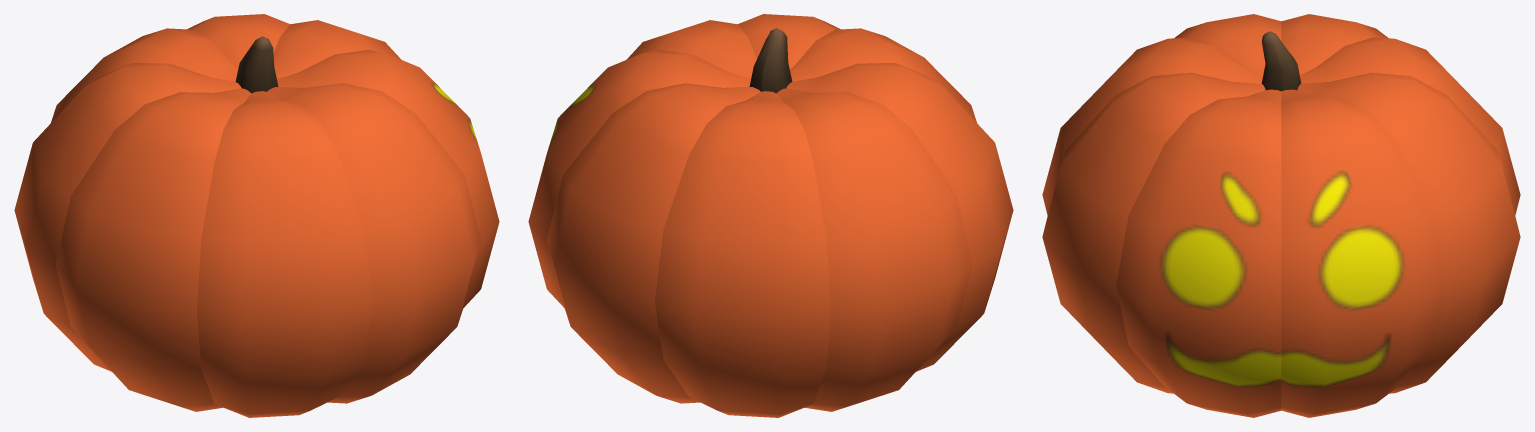
Rendered from MM_JackOLantern.fbx.
3 views of the same model, side by side, from view 1: azimuth 30°, elevation 25°; view 2: azimuth 150°, elevation 25°; view 3: azimuth 270°, elevation 25° (orthographic).
Parts seen in each view (by area): view 1: MM_JackOLantern; view 2: MM_JackOLantern; view 3: MM_JackOLantern.
Boxes of the visible parts, x1,y1,x2,y2 form: MM_JackOLantern: (14, 14, 499, 417); MM_JackOLantern: (528, 14, 1013, 417); MM_JackOLantern: (1042, 14, 1520, 417).
Bounding box in the file's own units: 120 × 92.36 × 120.
